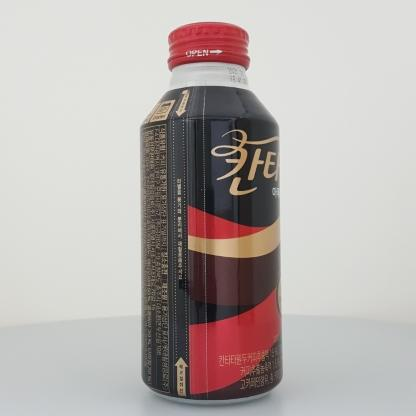--B_F---------: (139, 22, 283, 405)
